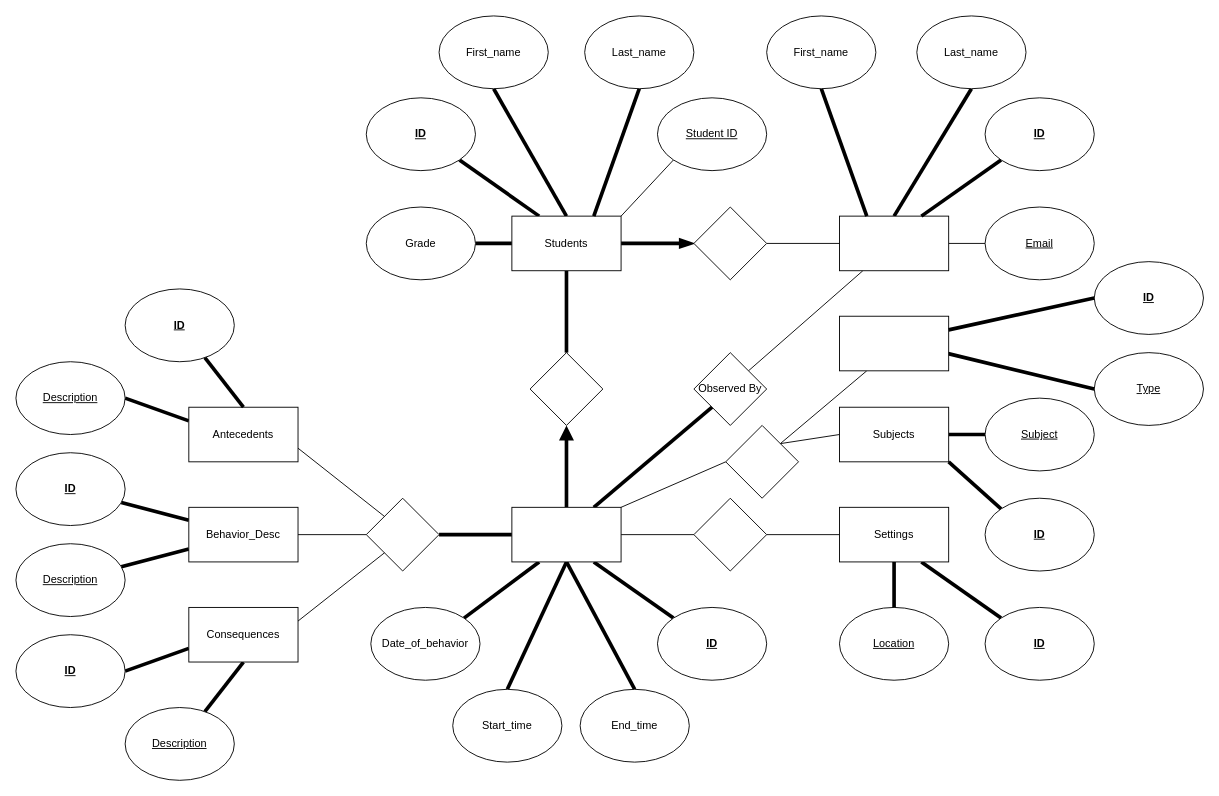
This 1219x796 diagram has some shape labels left out. Here are the shapes that lost their labels. From the top down, the centre of each, then its label:
At point (730, 243): "Whose Case Manager Is".
At point (894, 243): "Staff".
At point (894, 343): "Activities".
At point (566, 388): "Engaged In".
At point (762, 461): "During".
At point (402, 534): "Described By".
At point (566, 534): "Behaviors".
At point (730, 534): "At".
